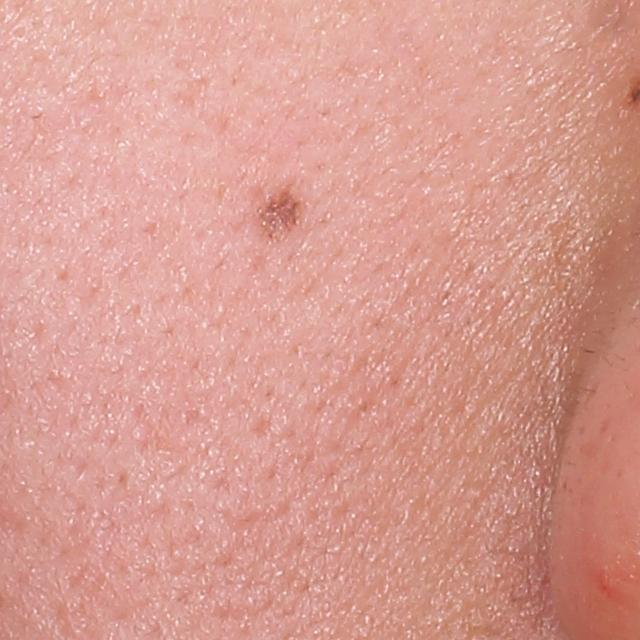nevus: (255, 183, 307, 249)
